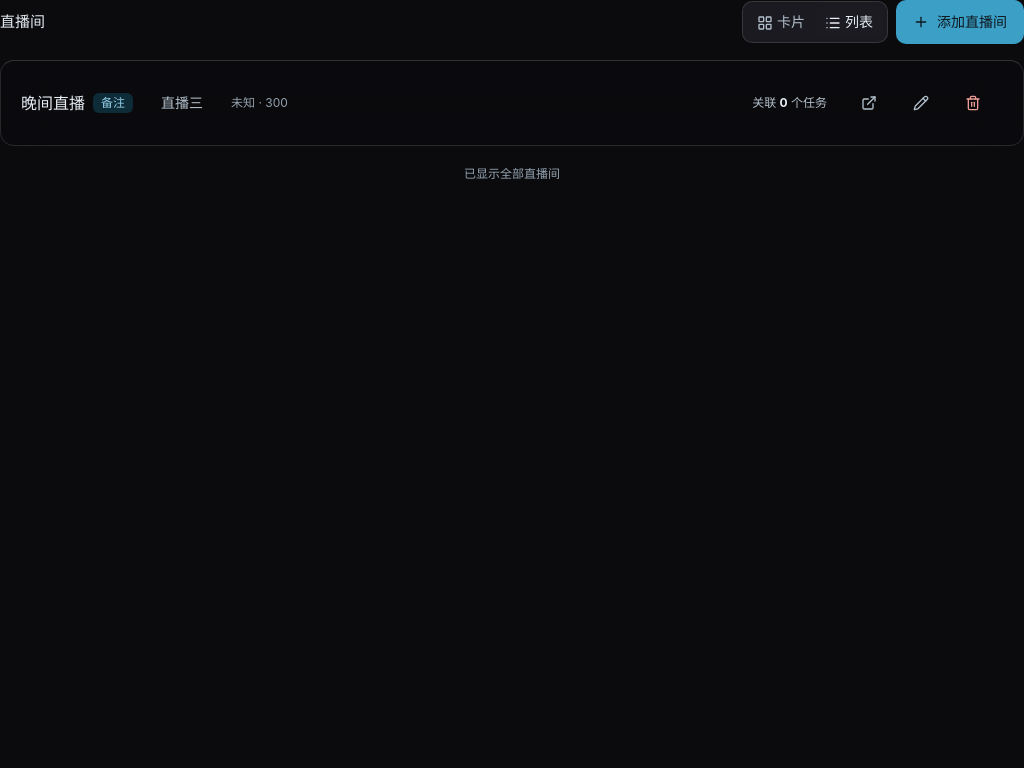
keeps the remark dialog open with the draft when saving fails
Expected: the heading "晚间直播" is shown, [21,91,85,115]
Click the button named "修改 300 的备注" at (921, 103), box [899,81,943,125]
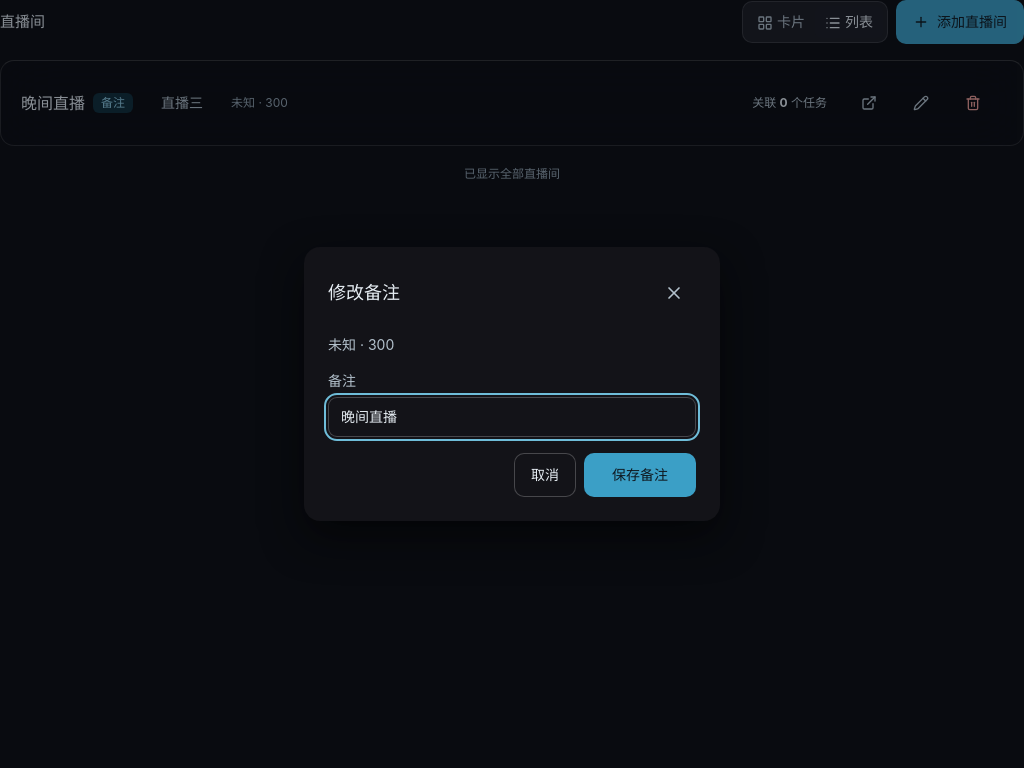
Expected: the text "未知 · 300" is shown, [328,336,394,353]
Replace the text in the field labelled "备注" with "午间直播" at (512, 417), box [328,397,696,437]
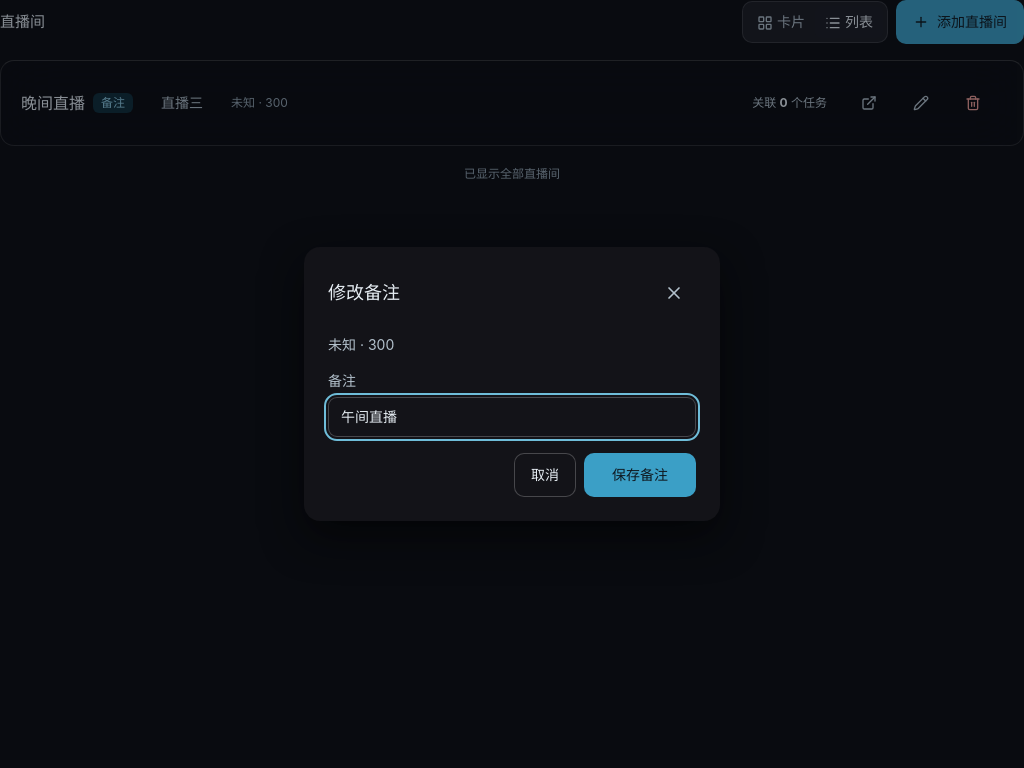
Click the button "保存备注" at (640, 475), box [584,453,696,497]
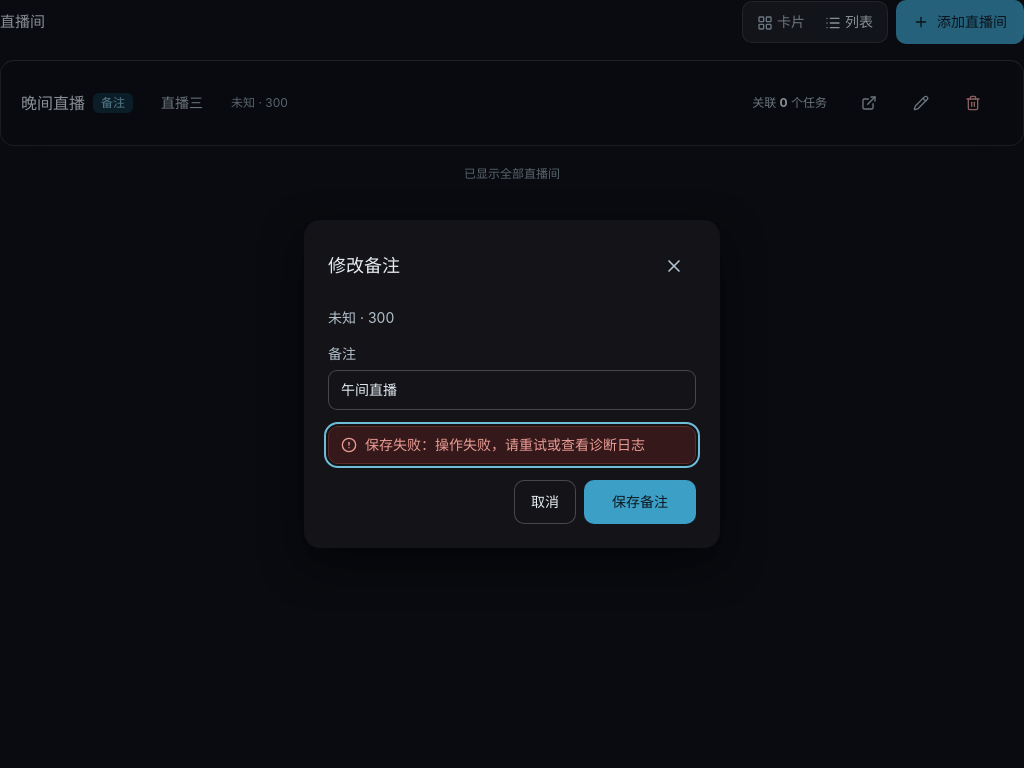
Expected: the message reads "保存失败：操作失败，请重试或查看诊断日志", [365,436,645,453]
Expected: the number of messages is 1, [328,426,696,464]
Note: Editing the rejected value clears the message before the retry.
Type "！" into the field labelled "备注" at (512, 390), box [328,370,696,410]
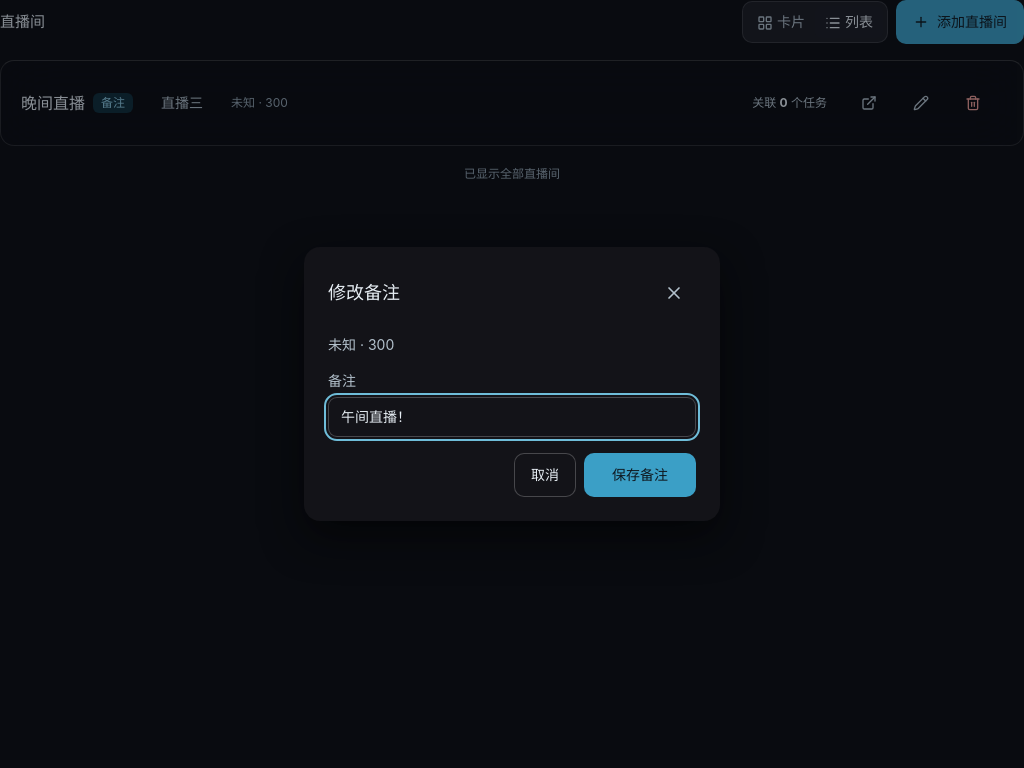
Expected: the message "保存失败：操作失败，请重试或查看诊断日志" is gone
